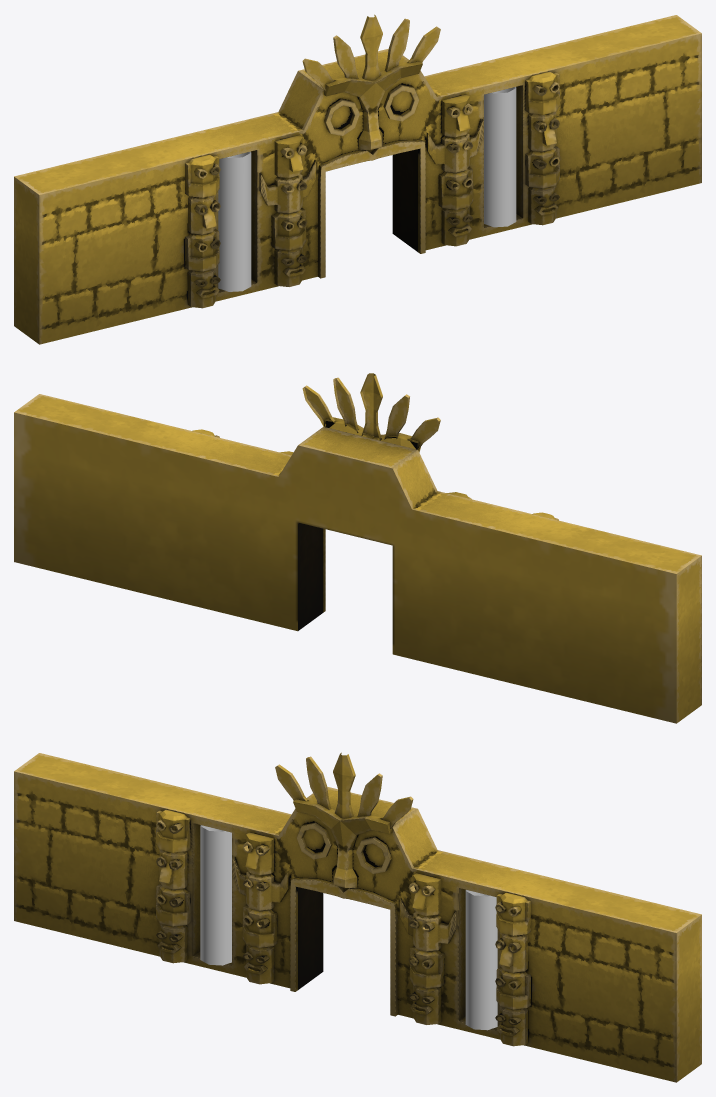
File: Muro_ok.fbx
3 renders of one model, top to bottom at view 1: azimuth 30°, elevation 25°; view 2: azimuth 150°, elevation 25°; view 3: azimuth 330°, elevation 25°, orthographic.
Parts seen in each view (by area): view 1: Cube.003, Cylinder, Cylinder.001; view 2: Cube.003; view 3: Cube.003, Cylinder.001, Cylinder.
Boxes of the visible parts, x1=… form: Cube.003: x1=14, y1=14, x2=701, y2=344; Cylinder: x1=218, y1=151, x2=251, y2=291; Cylinder.001: x1=484, y1=87, x2=516, y2=227; Cube.003: x1=14, y1=373, x2=701, y2=723; Cube.003: x1=14, y1=752, x2=701, y2=1082; Cylinder.001: x1=465, y1=890, x2=497, y2=1030; Cylinder: x1=200, y1=825, x2=231, y2=965.
Bounding box in the file's own units: 927 × 333 × 88.57.
